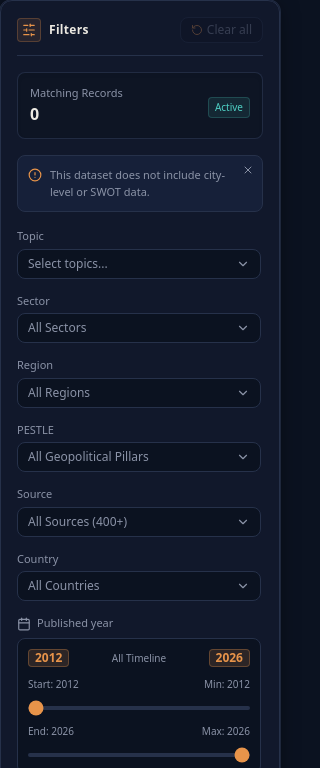
Scenario: FilterSidebar Component › restricts Region options to only compatible regions when Country: Belize is selected (excluding Africa)
Expected: the text "All Countries" is shown, [28,578,100,594]
What coordinates should you click on to do the following:
click the button "All Countries"
I would click on:
 (139, 586)
Its box is [17,571,261,601].
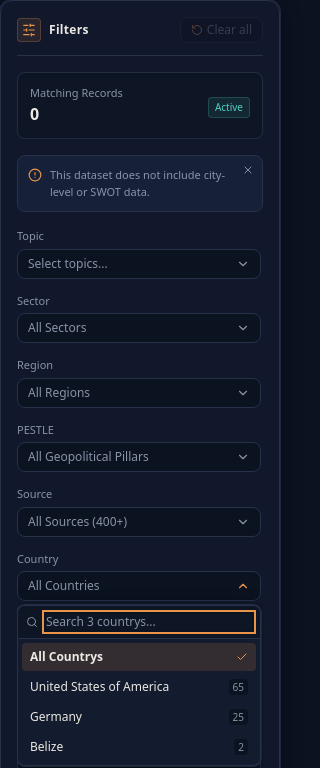
Expected: the text "Belize" is shown
What coordinates should you click on to do the following:
click the text "Belize"
I would click on:
 (47, 747)
Its box is [30,739,63,755].
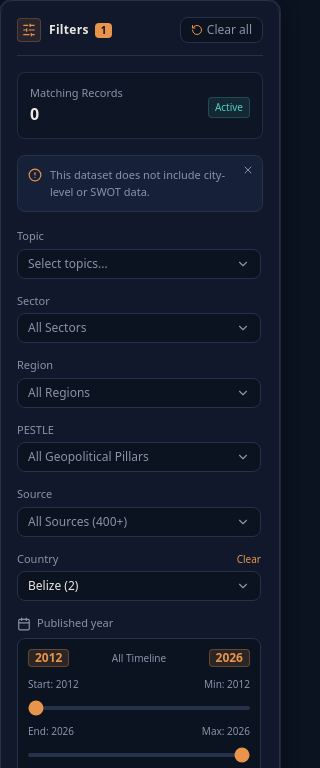
Expected: the text "All Regions" is shown, [28,385,90,401]
What coordinates should you click on to do the following:
click the button "All Regions"
I would click on:
 (139, 393)
Its box is [17,378,261,408].
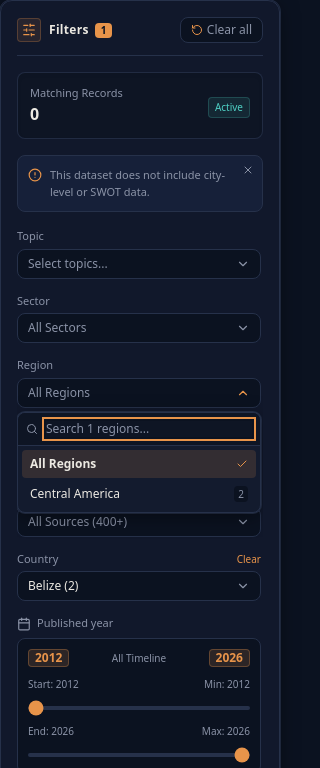
Expected: the text "Central America" is shown, [30,486,120,502]
